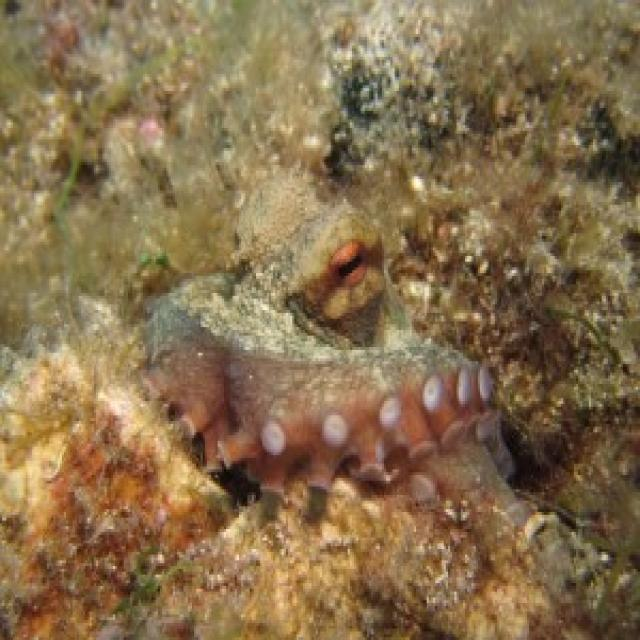Octo: (116, 168, 536, 546)
